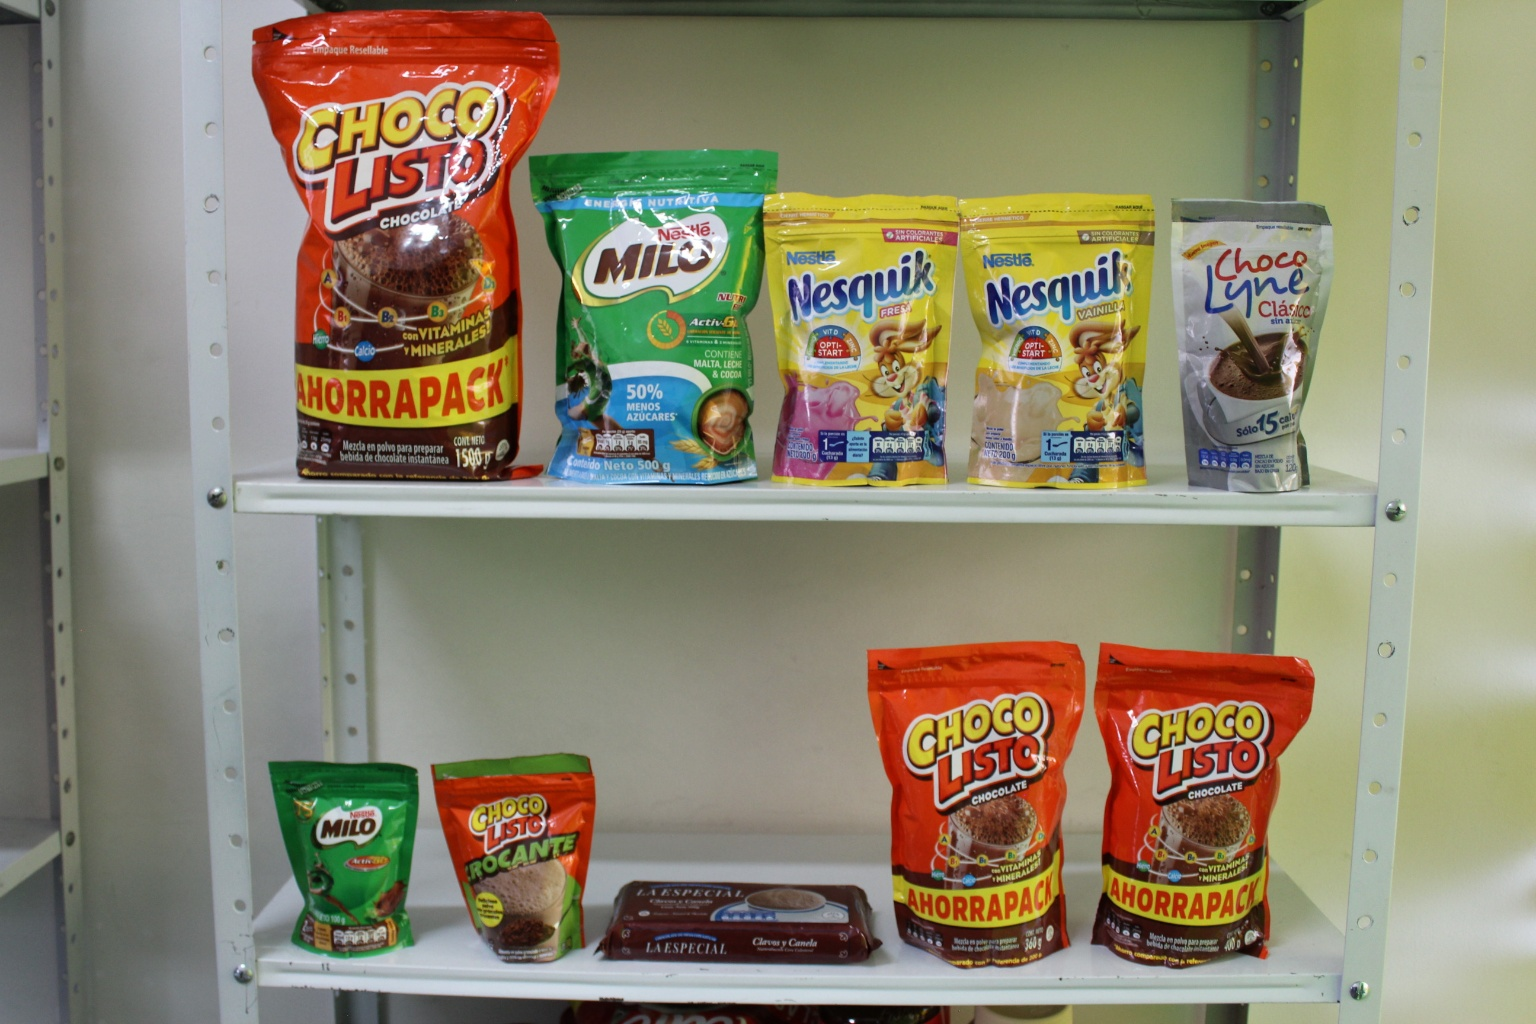COL0170102DYP10000: (432, 739, 599, 962)
COL0170103DYP1,500: (247, 7, 554, 481)
COL0170103DYP36000: (875, 632, 1096, 965)
COL0170103DYP40000: (1091, 639, 1317, 961)
COL0170203DYP10000: (261, 737, 419, 966)
COL0170205DYP50000: (529, 142, 769, 487)
COL0170305DYP20000: (763, 171, 957, 489)
COL0170306DYP20000: (955, 181, 1169, 486)
